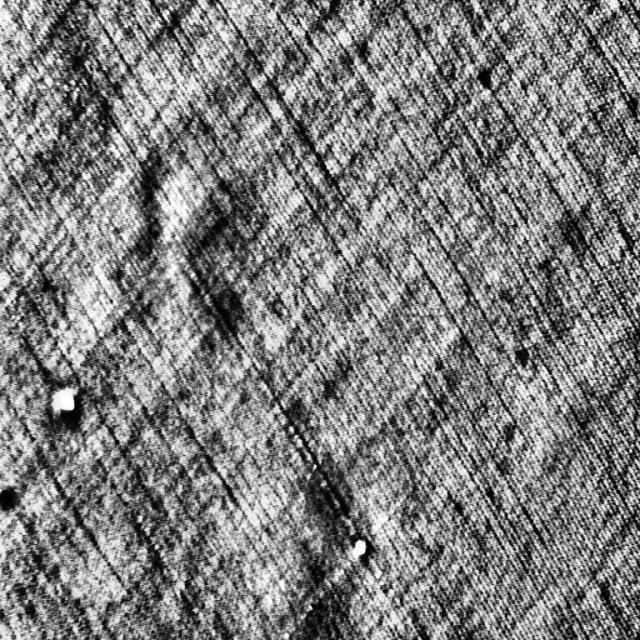cut: (52, 382, 82, 427), (350, 528, 373, 564)
